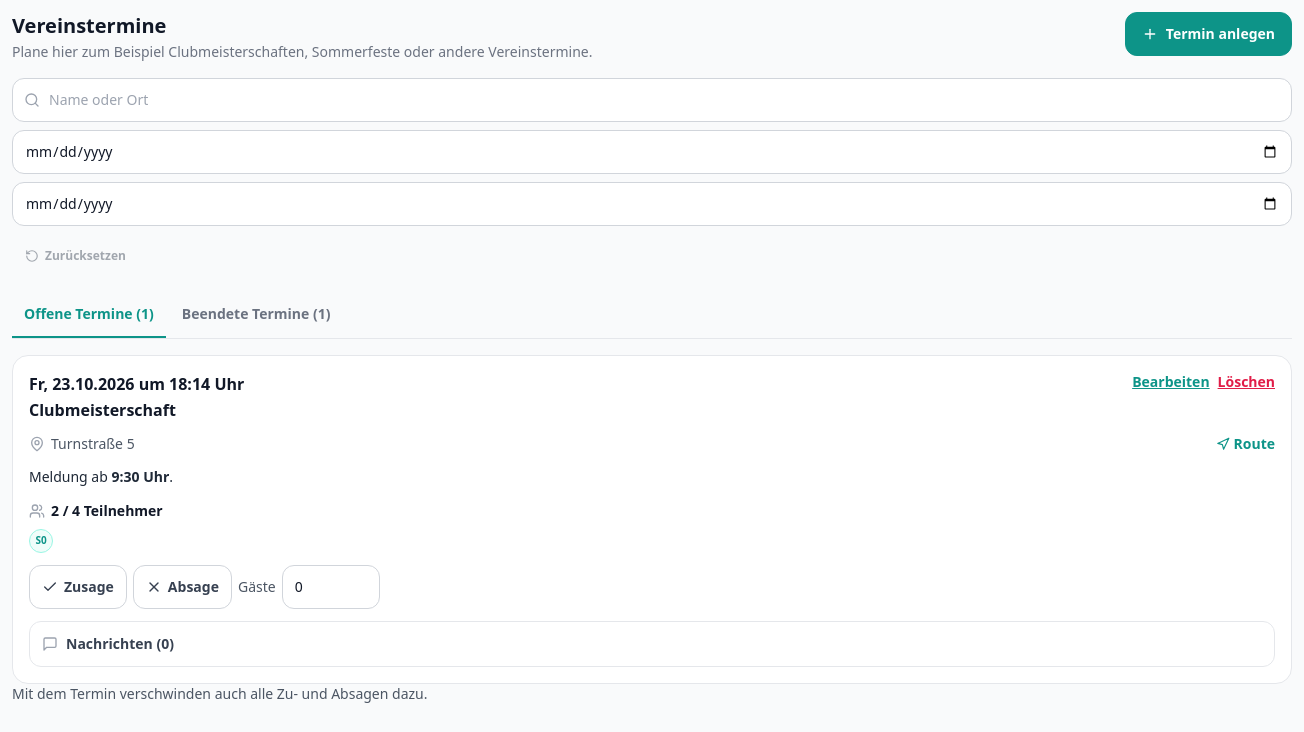
Test: EventsPage › filtert die Liste nach der Suche
The image size is (1304, 732).
Expected: the text "Clubmeisterschaft" is shown, x1=29 y1=399 x2=176 y2=421
Type "jahres" into the search field with placeholder "Name oder Ort" at x=652, y=100, box x1=12 y1=78 x2=1292 y2=122
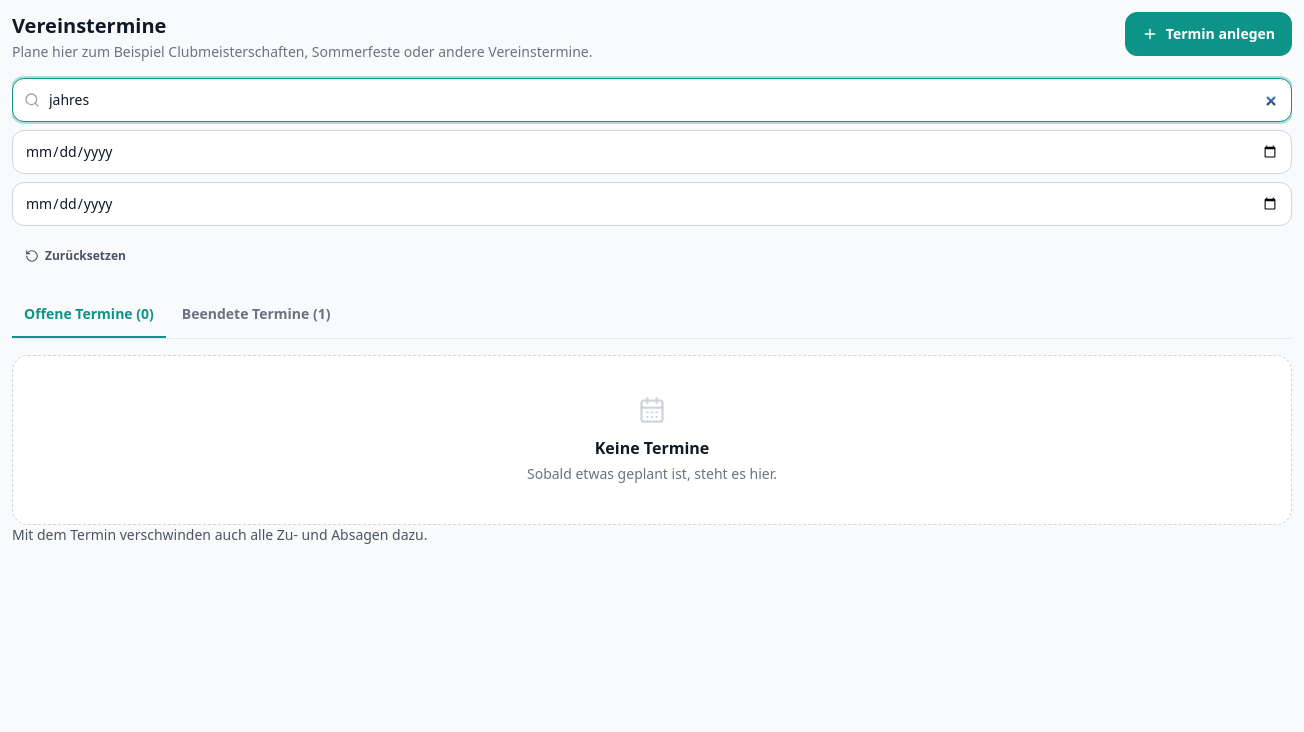
Expected: the tab "Offene Termine (0)" is shown, x1=12 y1=294 x2=166 y2=338
